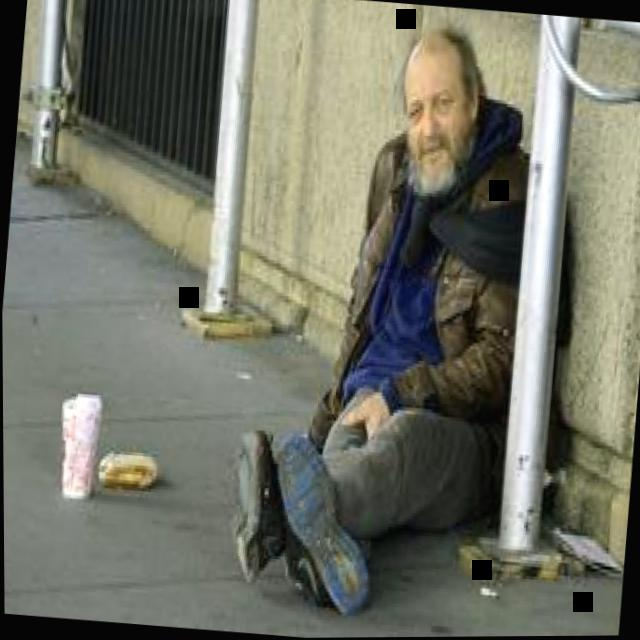Fall-Detected: (210, 0, 582, 623)
